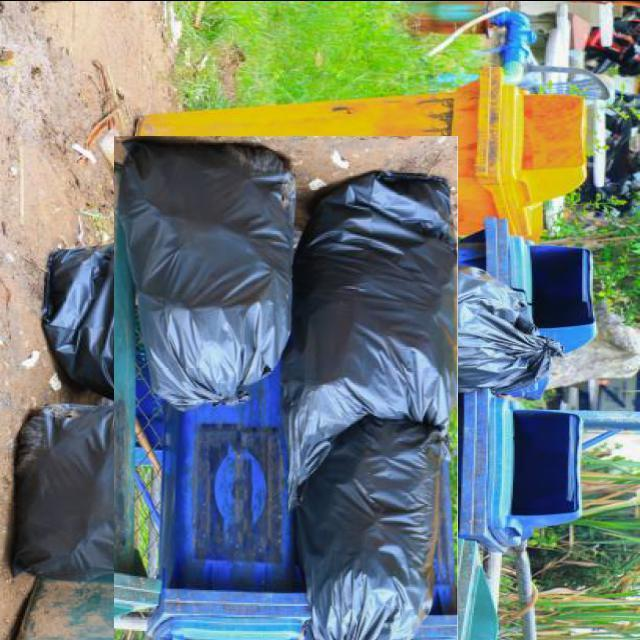Trashbag: (117, 138, 307, 407), (285, 171, 451, 462), (300, 417, 440, 640)
